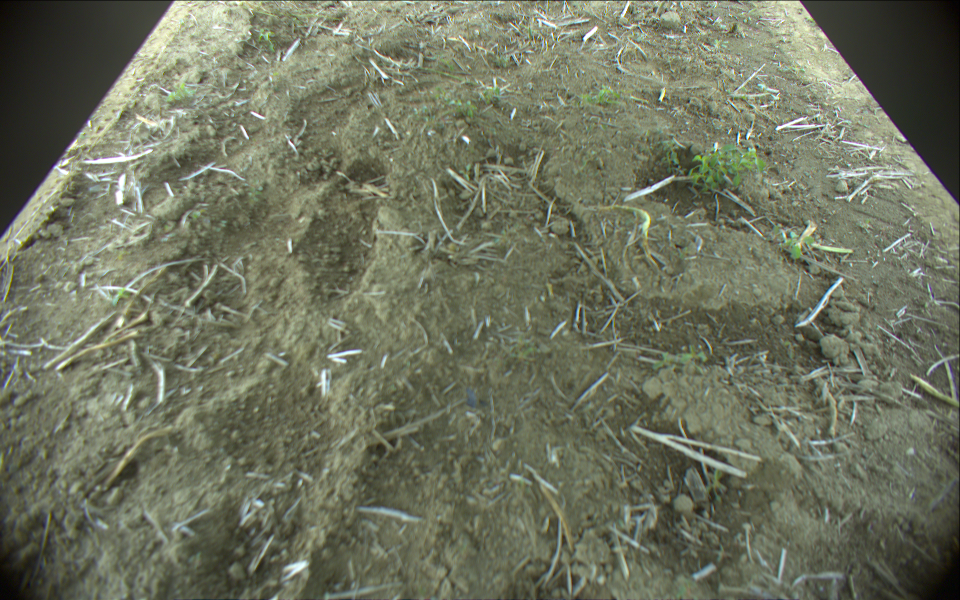aspa: (604, 203, 660, 261), (910, 371, 960, 414), (799, 243, 856, 253)
